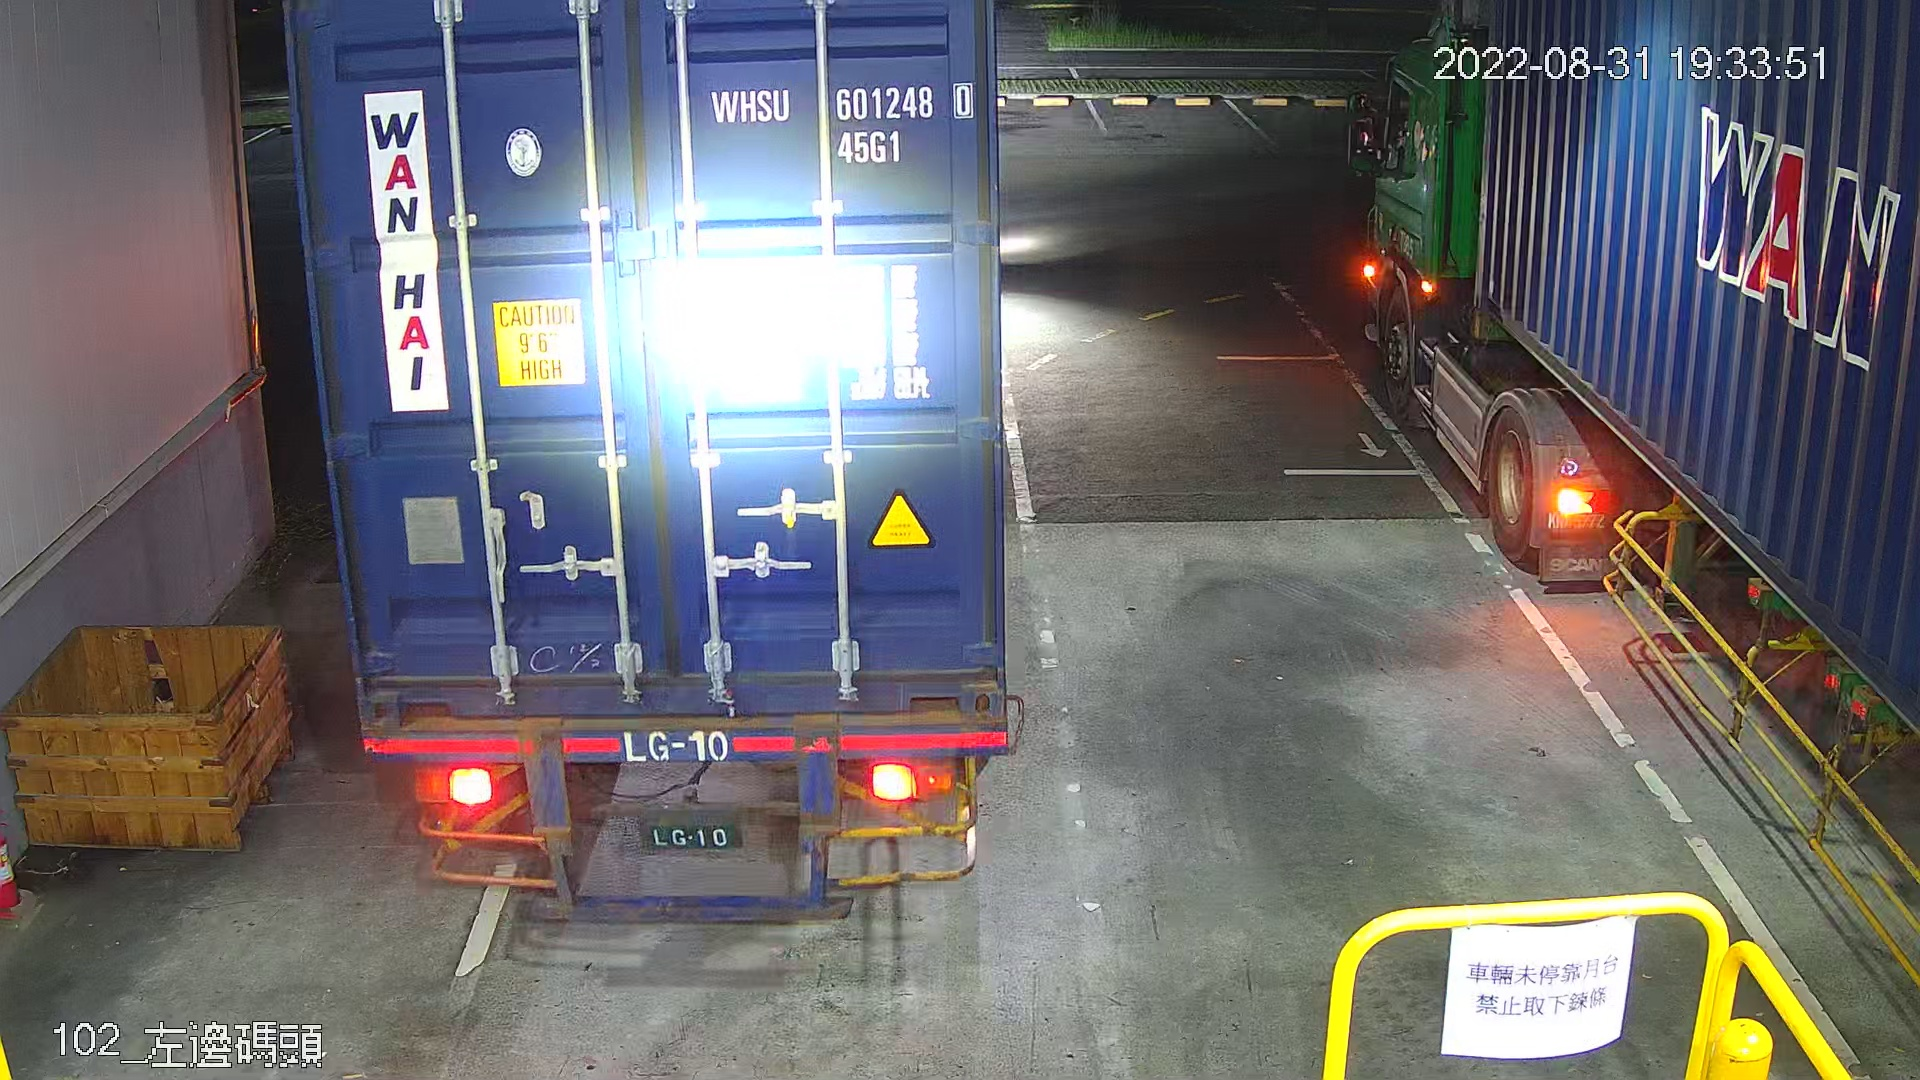container: (700, 73, 982, 171)
